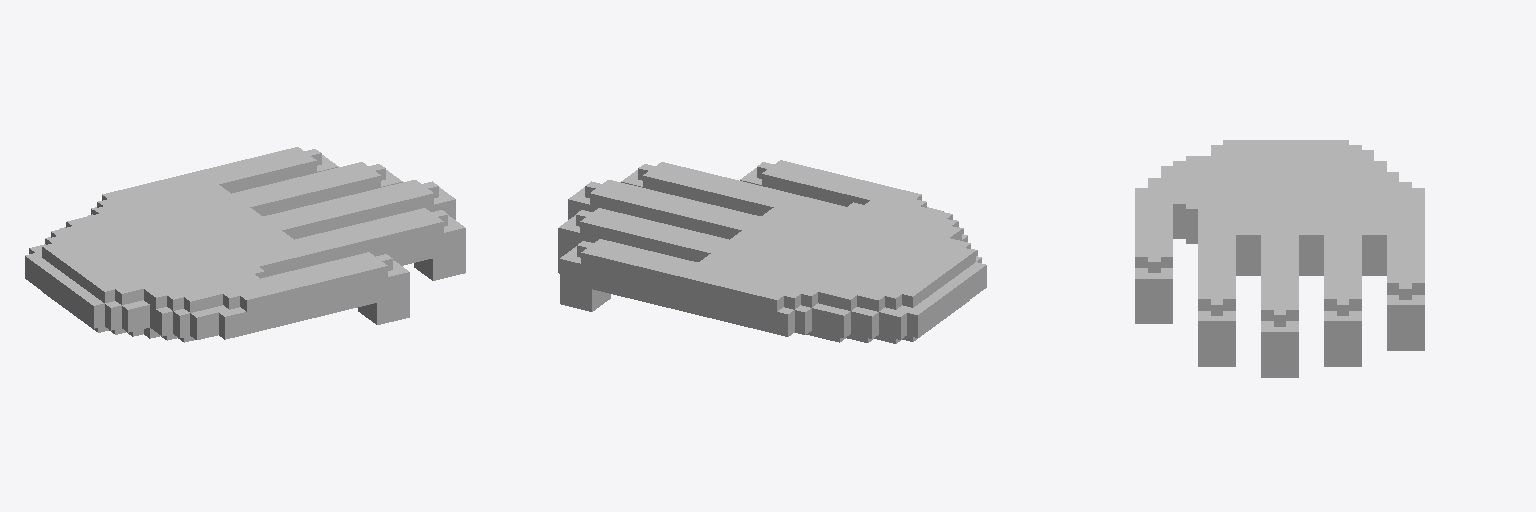
Rendered from Hand2.obj.
3 renders of one model, left to right at view 1: azimuth 30°, elevation 25°; view 2: azimuth 150°, elevation 25°; view 3: azimuth 270°, elevation 25°, orthographic.
Bounding box in the file's own units: 35 × 5 × 23.